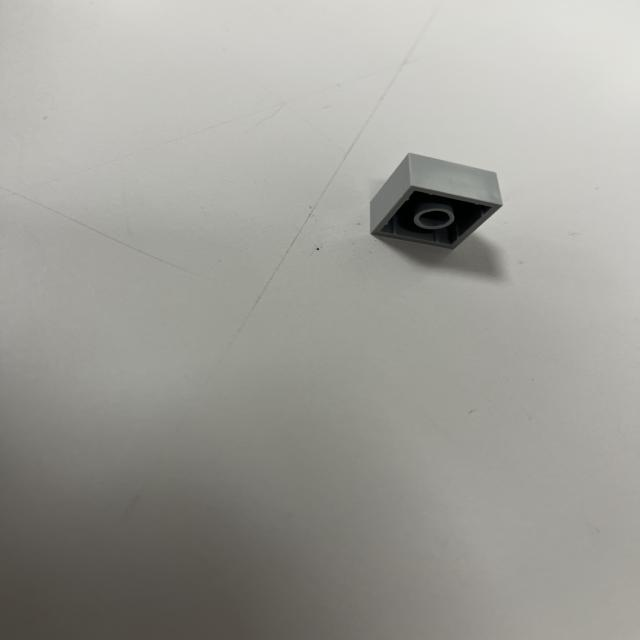C2x2x1: (370, 152, 506, 252)
